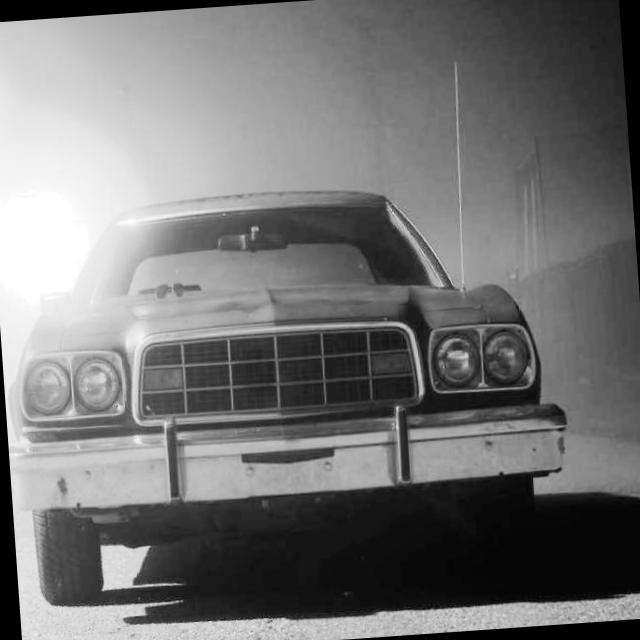Car: (0, 101, 599, 640)
